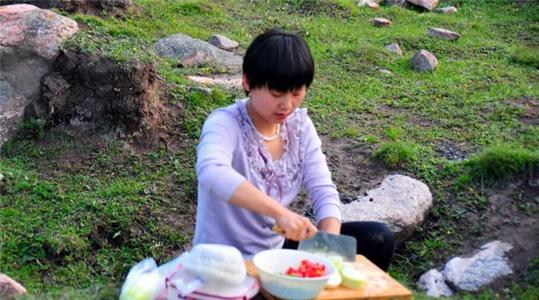person: (191, 30, 396, 272)
